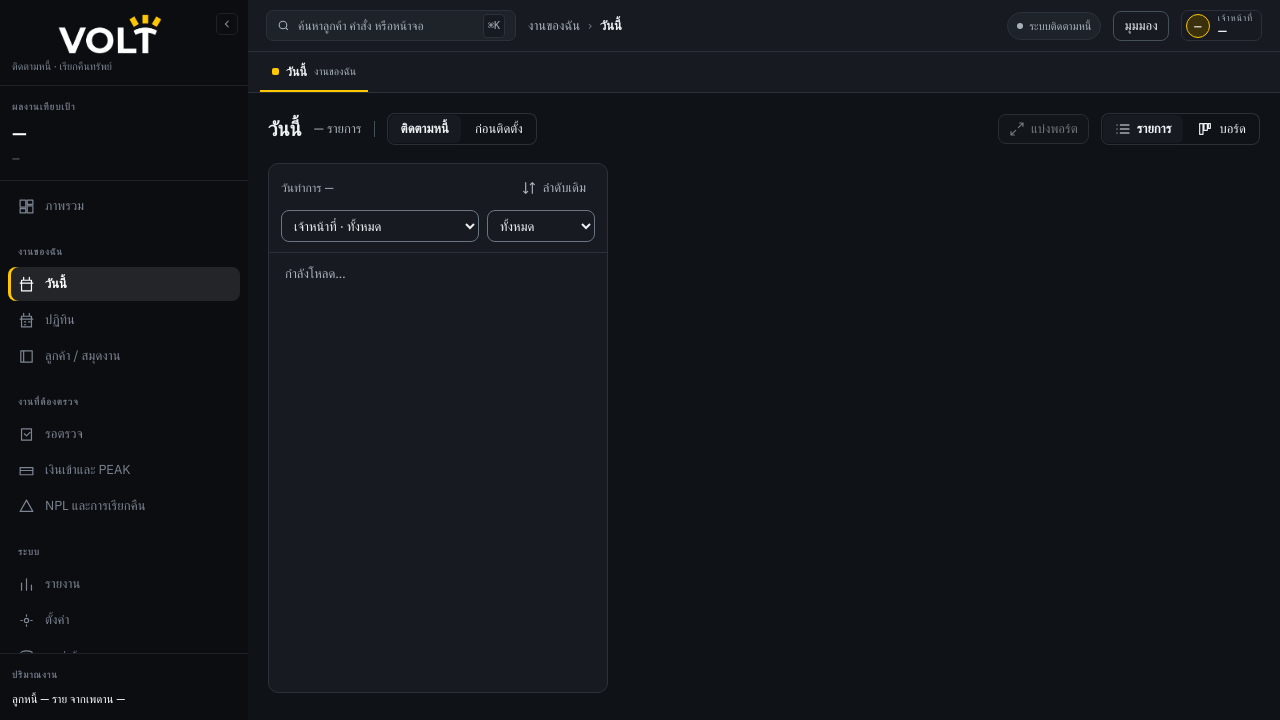
Scenario: the shell › opens the palette with ⌘K and runs a command
Press k
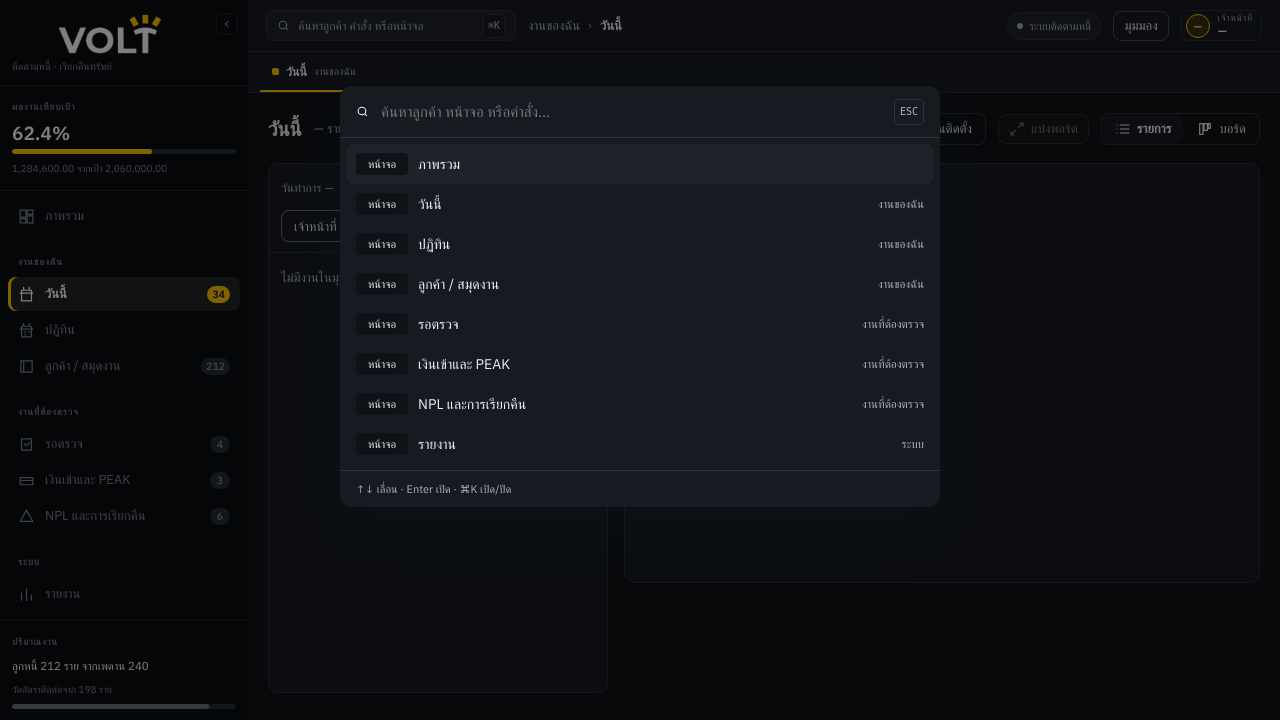
Expected: the dialog is shown
Type "ธีม" into the field with placeholder "ค้นหาลูกค้า หน้าจอ หรือคำสั่ง…". click: (631, 112)
box: [379, 101, 884, 122]
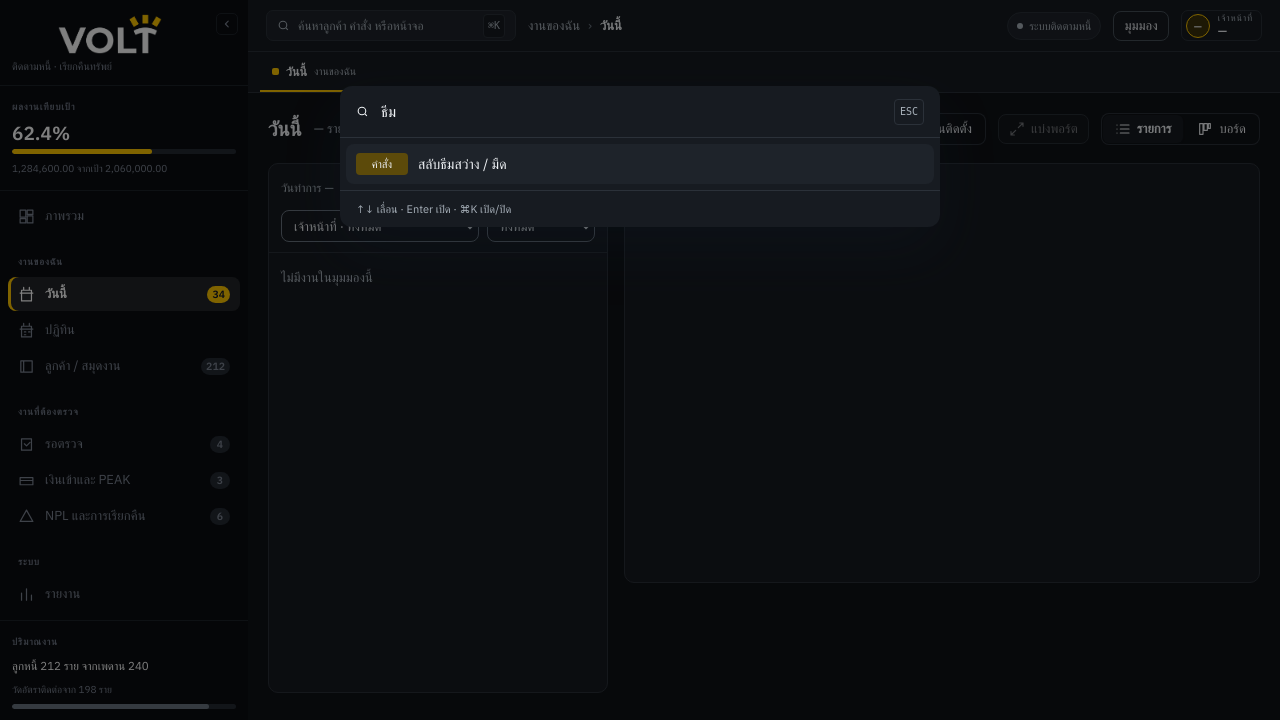
Click the text "สลับธีมสว่าง / มืด". click: click(462, 164)
box: [418, 155, 507, 173]
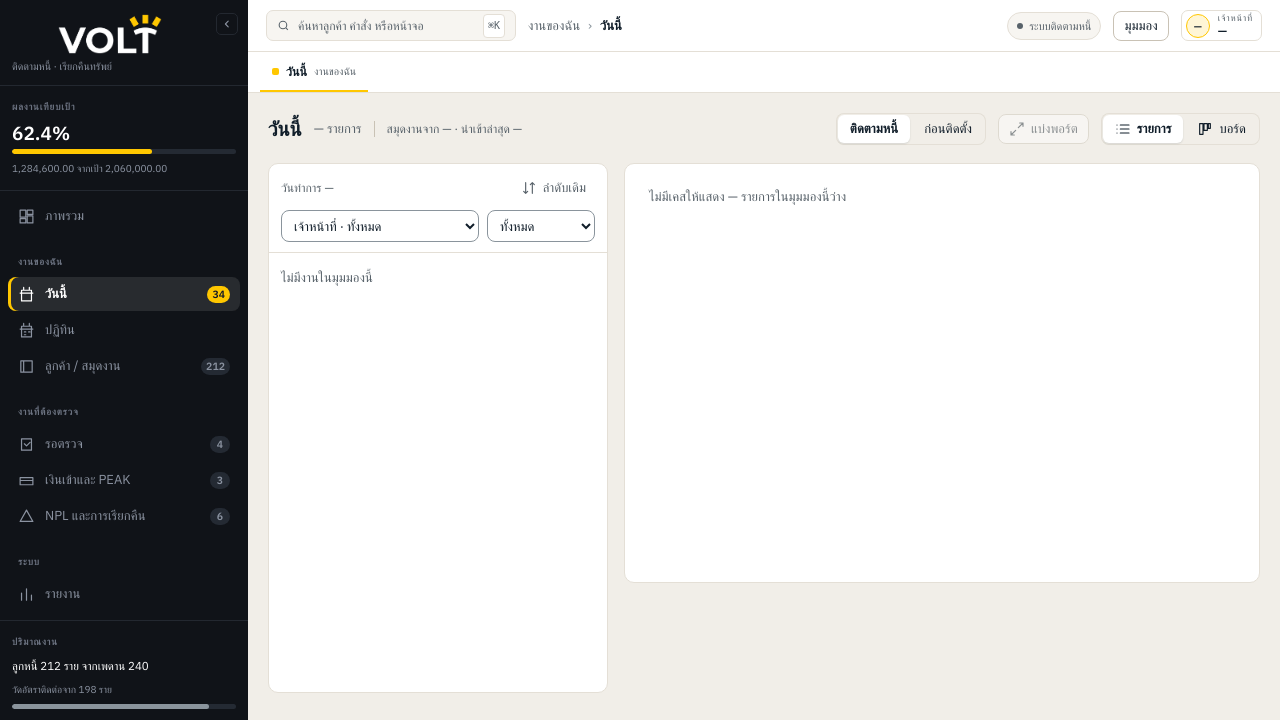
Expected: the dialog is gone
